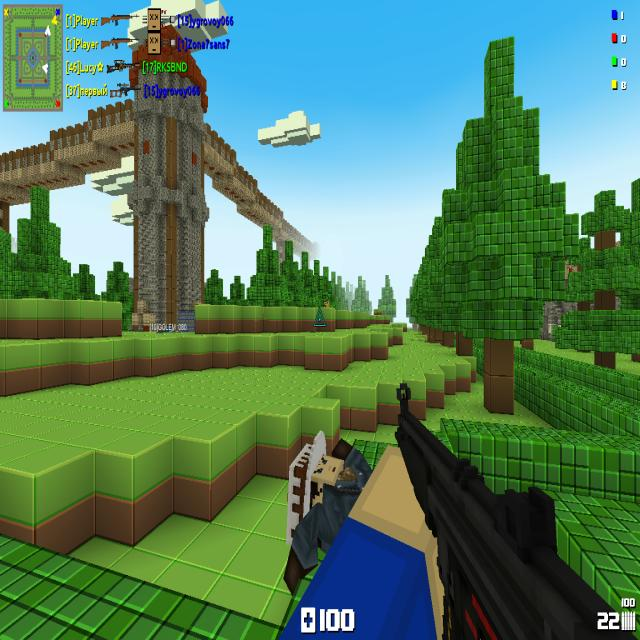enemy: (324, 299, 330, 308)
